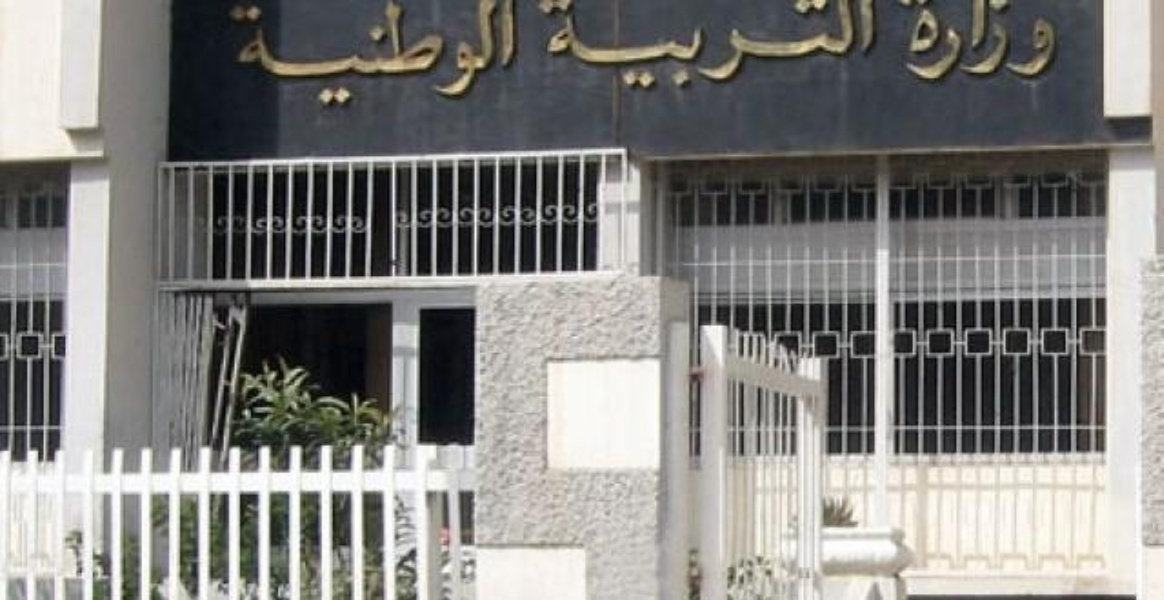text: (241, 1, 256, 106), (257, 1, 272, 106), (273, 1, 288, 106), (289, 1, 304, 106), (305, 1, 320, 106), (321, 1, 336, 106), (337, 1, 352, 106), (353, 1, 368, 106), (369, 1, 384, 106), (385, 1, 400, 106), (401, 1, 416, 106), (417, 1, 432, 106), (433, 1, 448, 106), (449, 1, 464, 106), (465, 1, 480, 106), (481, 1, 496, 106), (497, 1, 512, 106), (226, 1, 240, 106), (545, 1, 560, 95), (561, 1, 576, 95), (577, 1, 592, 95), (593, 1, 608, 95), (609, 1, 624, 95), (625, 1, 640, 95), (641, 1, 656, 95), (657, 1, 672, 95), (673, 1, 688, 95), (689, 1, 704, 95), (705, 1, 720, 95), (721, 1, 736, 95), (737, 1, 752, 95), (753, 1, 768, 95), (769, 1, 784, 95), (785, 1, 800, 95), (801, 1, 816, 95), (817, 1, 832, 95), (833, 1, 848, 95), (849, 1, 864, 95), (897, 1, 912, 81), (913, 1, 928, 81), (929, 1, 944, 81), (945, 1, 960, 81), (961, 1, 976, 81), (977, 1, 992, 81), (993, 1, 1008, 81), (1009, 1, 1024, 81), (1025, 1, 1040, 81), (1041, 1, 1056, 81), (533, 1, 544, 95), (865, 1, 875, 95), (1057, 1, 1064, 81), (513, 1, 517, 106)
